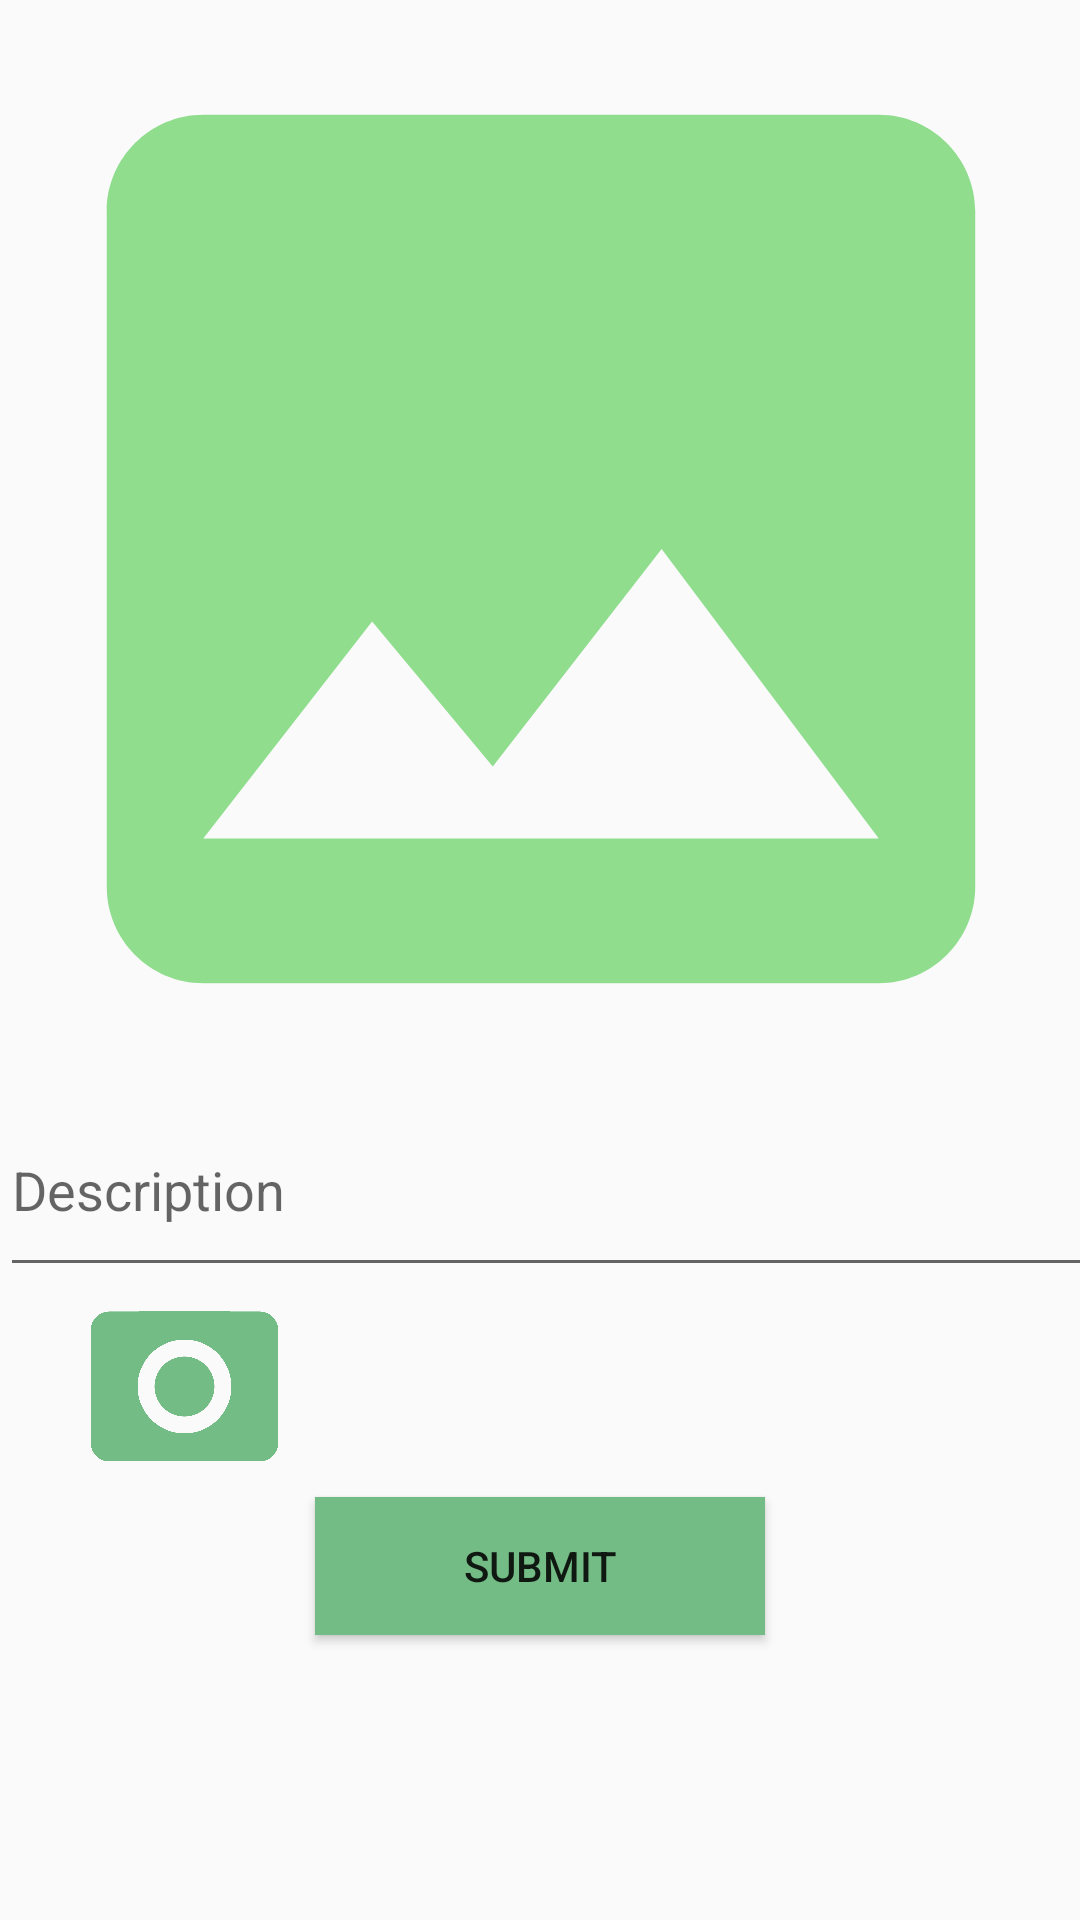

Icon click points for this 1080x1920 phone screenshot, format (x=x, y=y):
photo camera: (x=184, y=1386)
